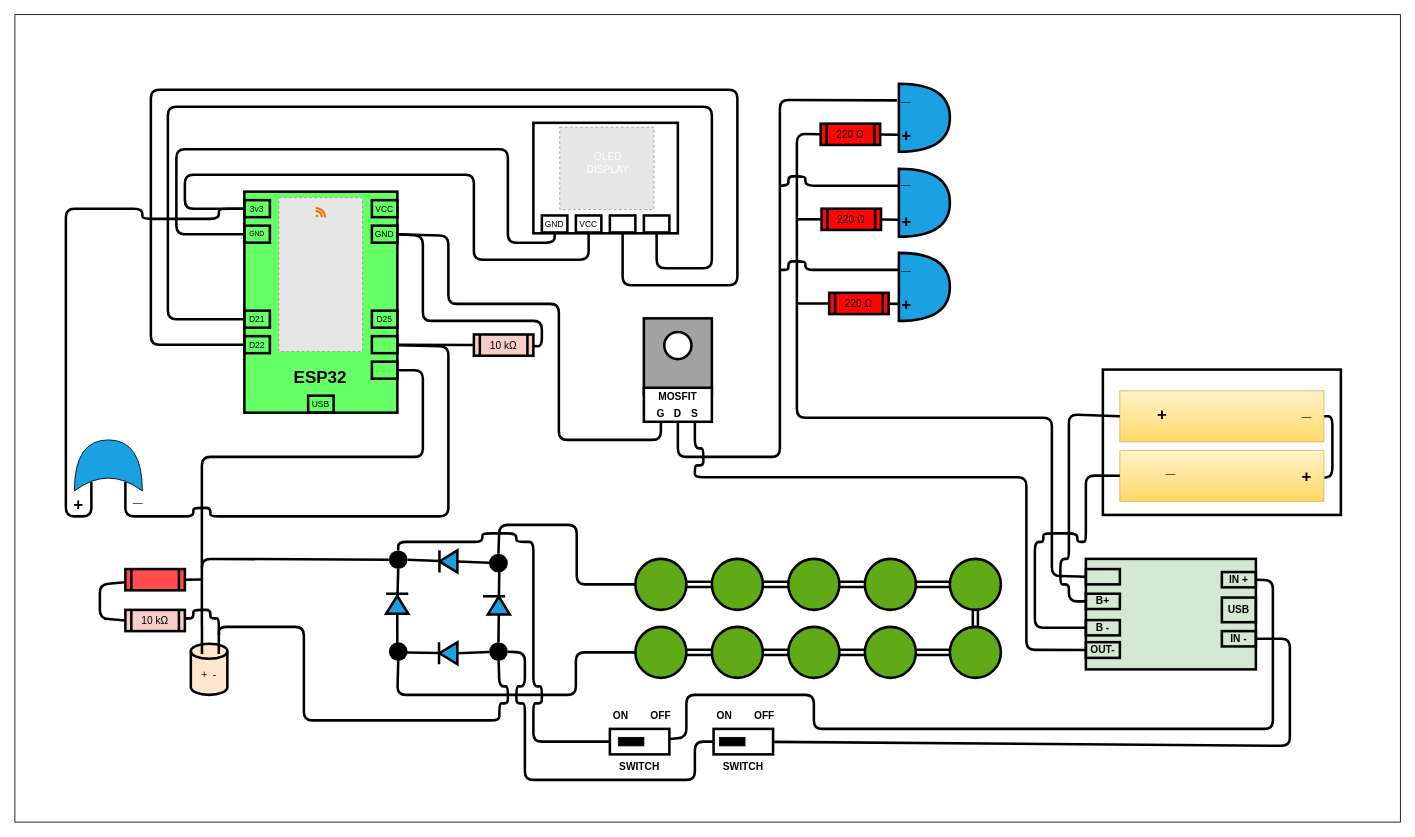
This 1415x837 diagram has some shape labels left out. Grey dashed boxes stand in for pictures. Here are the shapes that lost their labels. From the top down, the centre of each, then its label:
At pixel 622 223: "SCL".
At pixel 656 223: "SDA".
At pixel 384 344: "D32".
At pixel 384 370: "D34".
At pixel 108 465: "LDR".
At pixel 155 579: "100 kΩ".
At pixel 1102 576: "OUT+".
